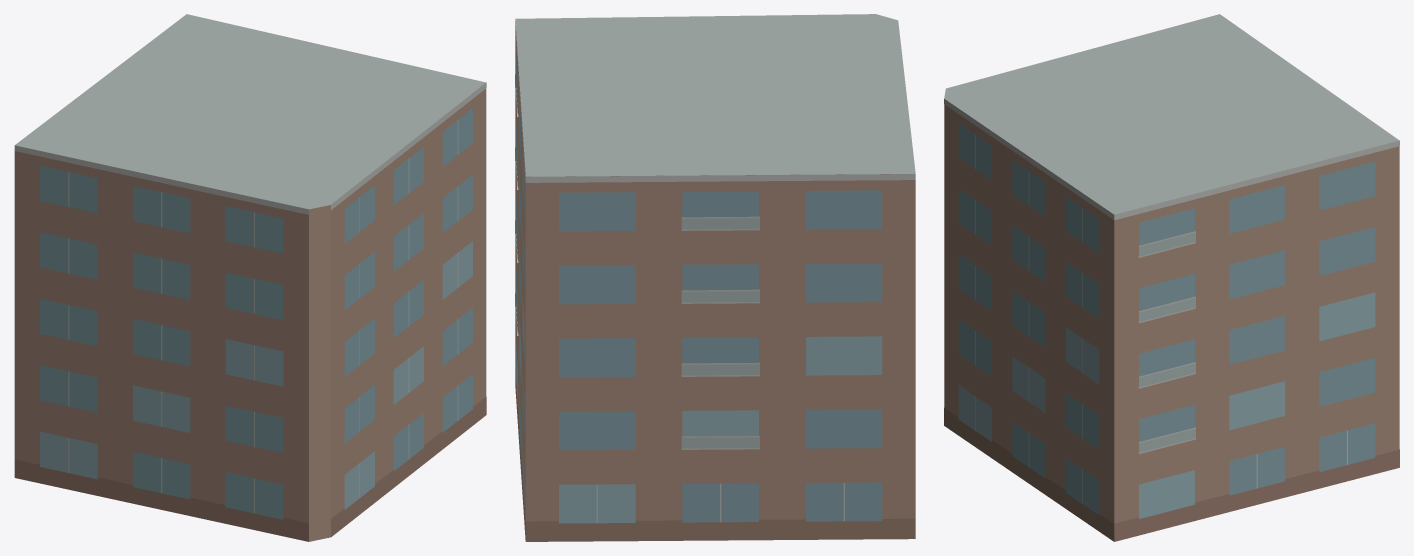
The model's file is residential-73492274-16b3-48e4-a585-00f78a9fb12d.glb.
The picture shows the model from 3 angles, left to right: view 1: azimuth 30°, elevation 25°; view 2: azimuth 150°, elevation 25°; view 3: azimuth 270°, elevation 25°; orthographic projection. The views are drawn at different scales.
Parts seen in each view (by area): view 1: residential-73492274-16b3-48e4-a585-00f78a9fb12d.tmp; view 2: residential-73492274-16b3-48e4-a585-00f78a9fb12d.tmp; view 3: residential-73492274-16b3-48e4-a585-00f78a9fb12d.tmp.
Boxes of the visible parts, <box> form: residential-73492274-16b3-48e4-a585-00f78a9fb12d.tmp: <box>14,14,486,541</box>; residential-73492274-16b3-48e4-a585-00f78a9fb12d.tmp: <box>515,14,915,541</box>; residential-73492274-16b3-48e4-a585-00f78a9fb12d.tmp: <box>944,14,1399,541</box>.
Size of the model in its own units: 18.96 by 14.4 by 18.19.
